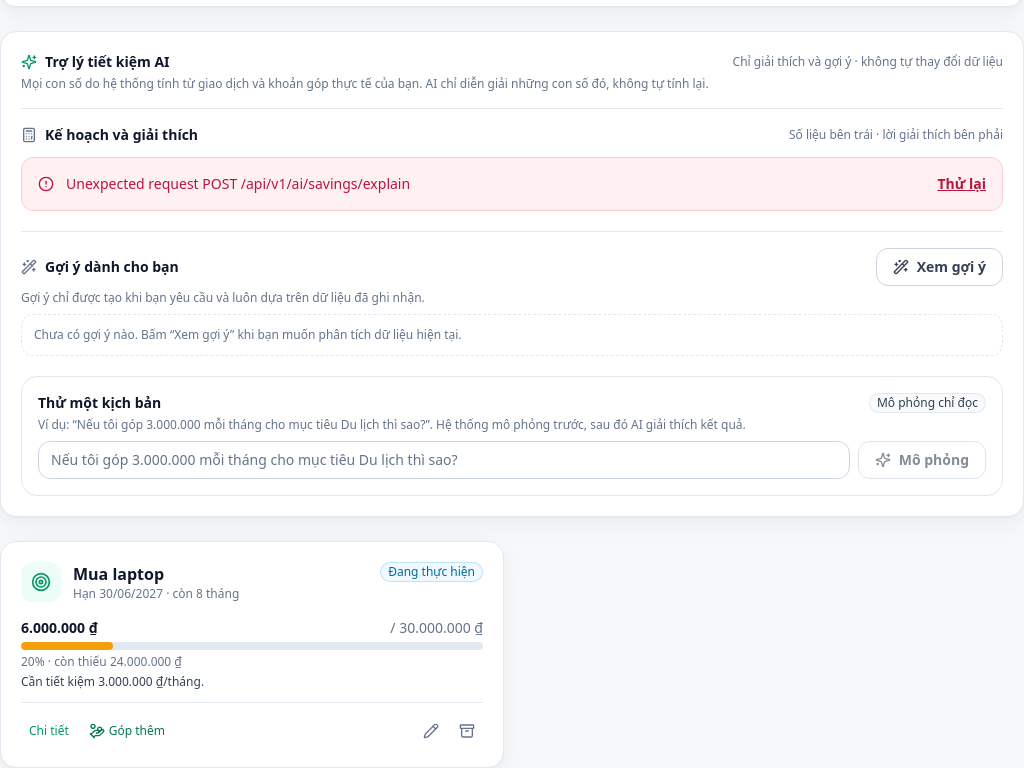
Test: GoalsPage — create and edit › edits an existing goal and refuses a target below the saved amount
(page scrolled)
expect the text "Mua laptop" is shown: met, box top-left (73, 563), bottom-right (164, 585)
Click the button named "Sửa Mua laptop" at point(431, 731), box top-left (415, 715), bottom-right (447, 747)
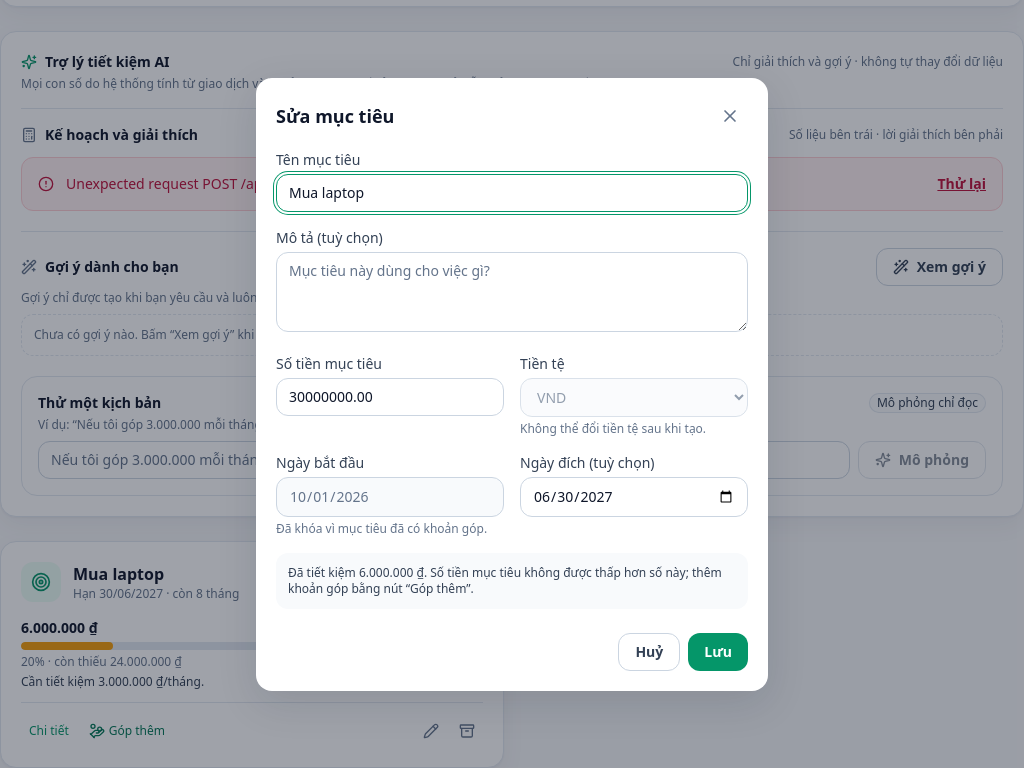
expect the field labelled "Tên mục tiêu" holds "Mua laptop": met
expect the field labelled "Số tiền mục tiêu" holds "30000000.00": met, box top-left (276, 378), bottom-right (504, 416)
Replace the text in the field labelled "Tên mục tiêu" with "Mua laptop mới" at point(512, 192), box top-left (276, 174), bottom-right (748, 212)
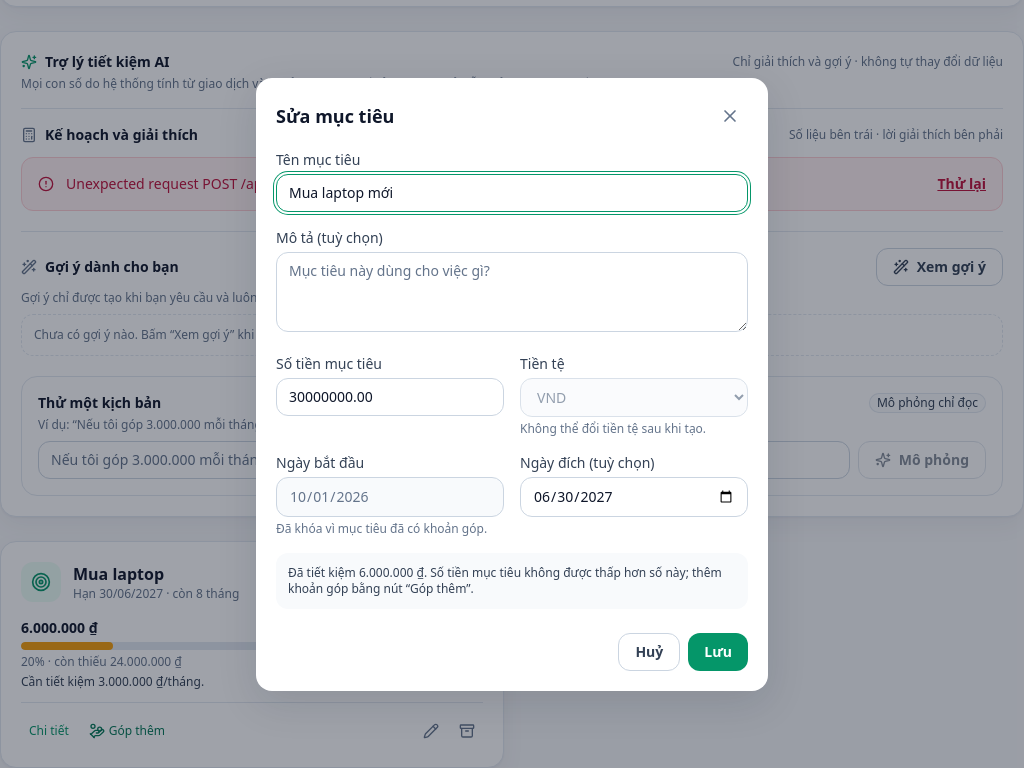
Click the button "Lưu" at point(718, 652), box top-left (688, 632), bottom-right (748, 670)
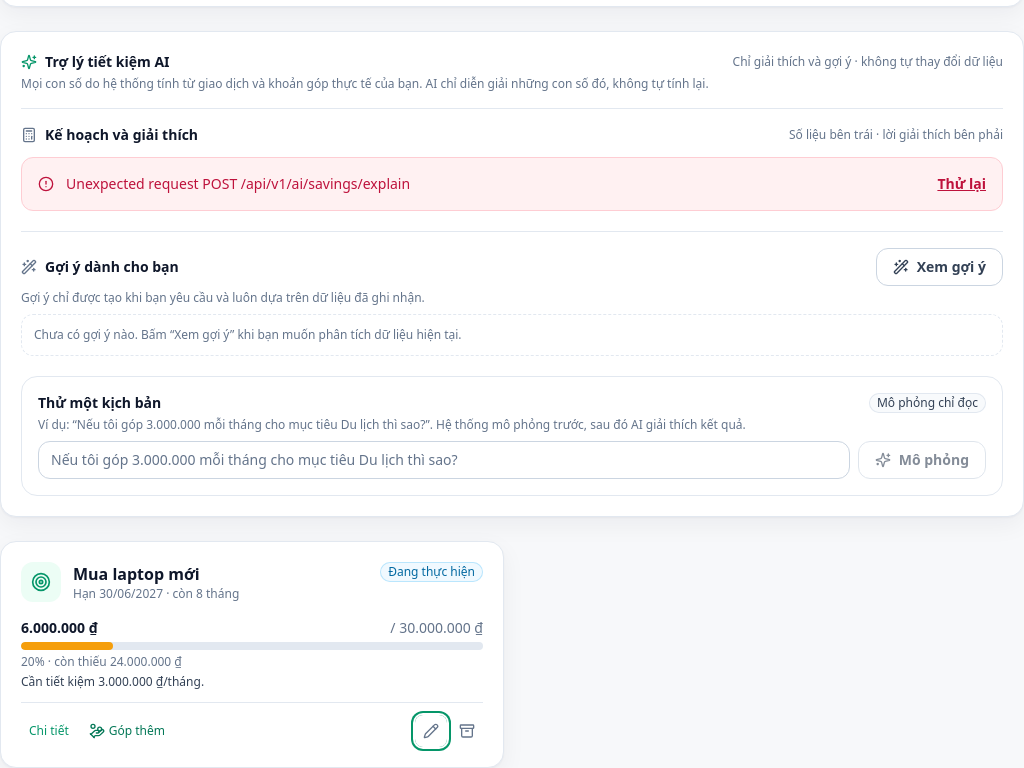
Click the button named "Sửa Mua laptop mới" at point(431, 731), box top-left (415, 715), bottom-right (447, 747)
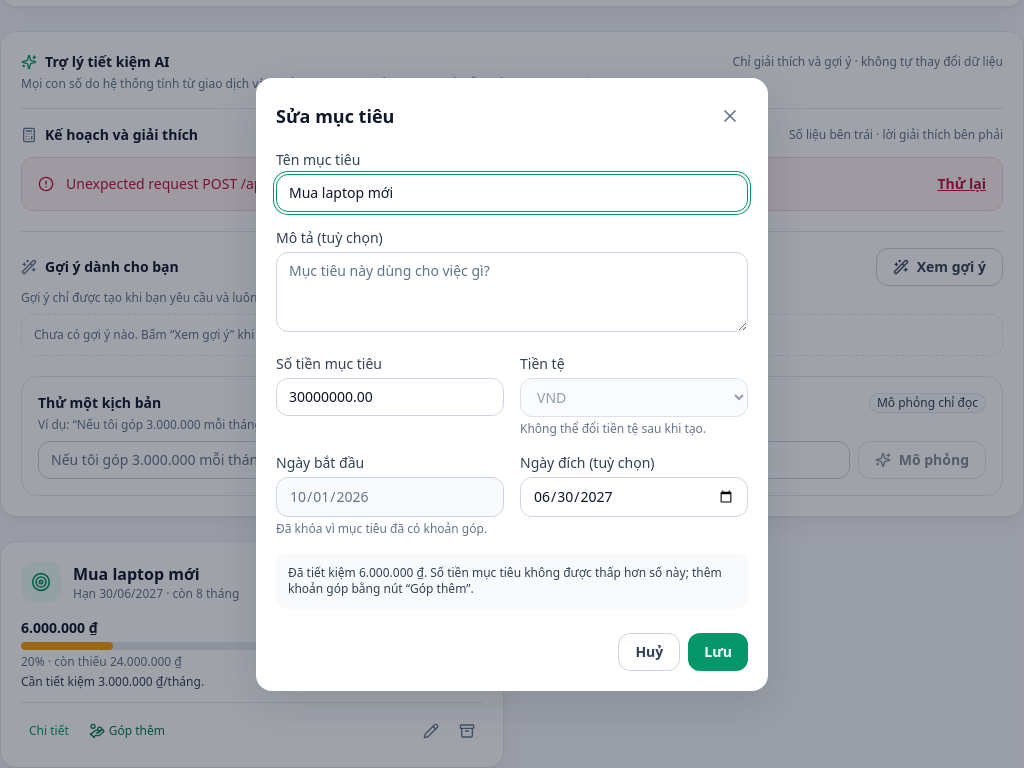
Replace the text in the field labelled "Số tiền mục tiêu" with "1000000" at point(390, 396), box top-left (276, 378), bottom-right (504, 416)
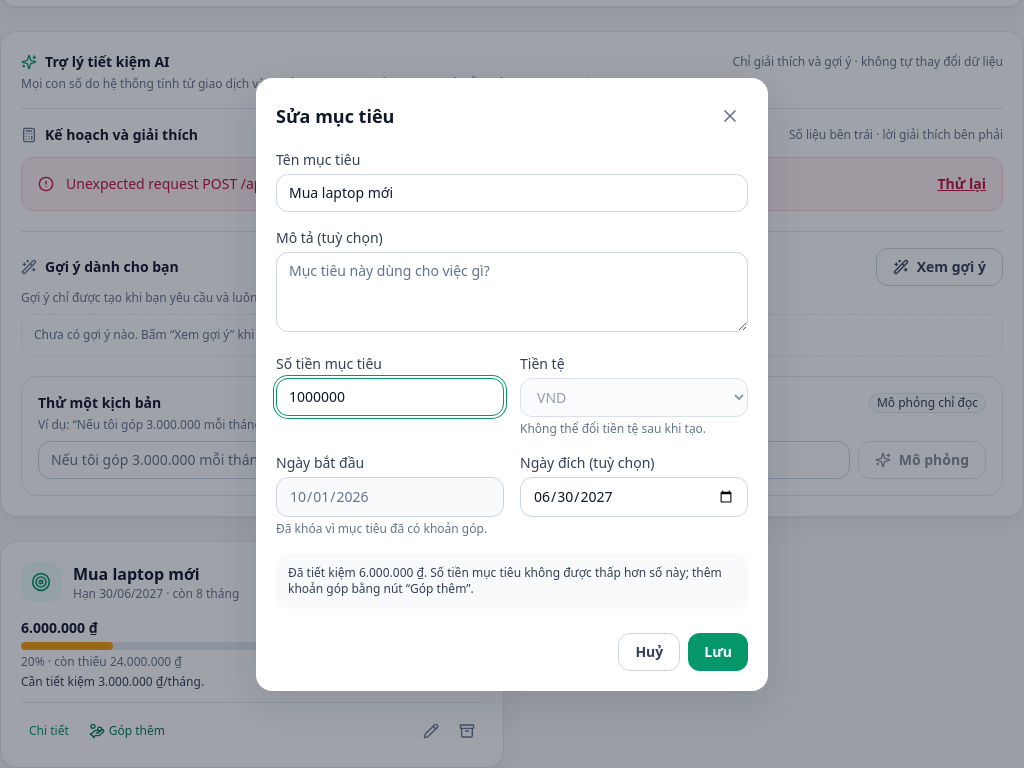
Click the button "Lưu" at point(718, 652), box top-left (688, 632), bottom-right (748, 670)
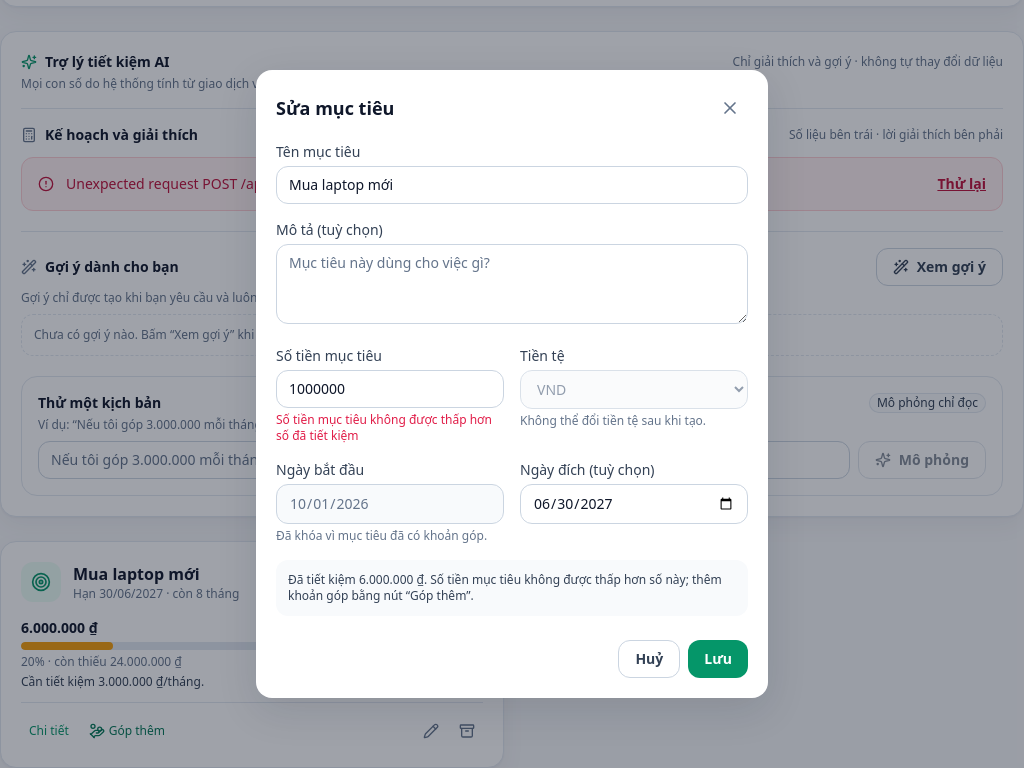
expect the text "Số tiền mục tiêu không được thấp hơn số đã tiết kiệm" is shown: met, box top-left (276, 412), bottom-right (504, 444)
